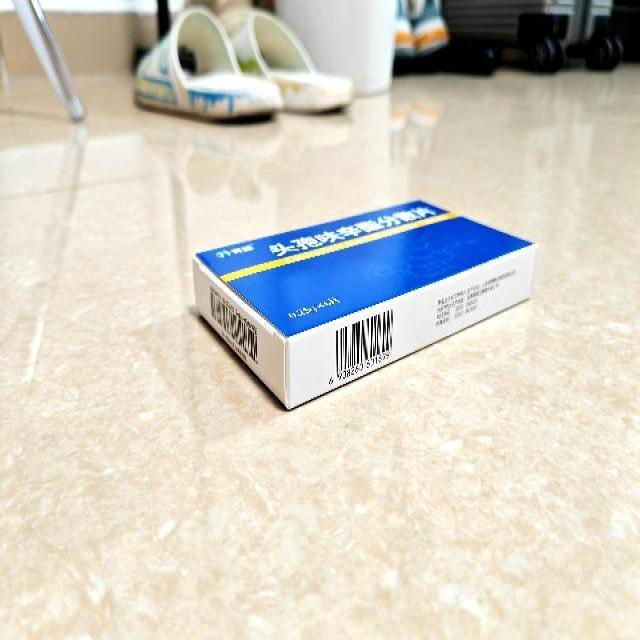box: (195, 198, 537, 410)
